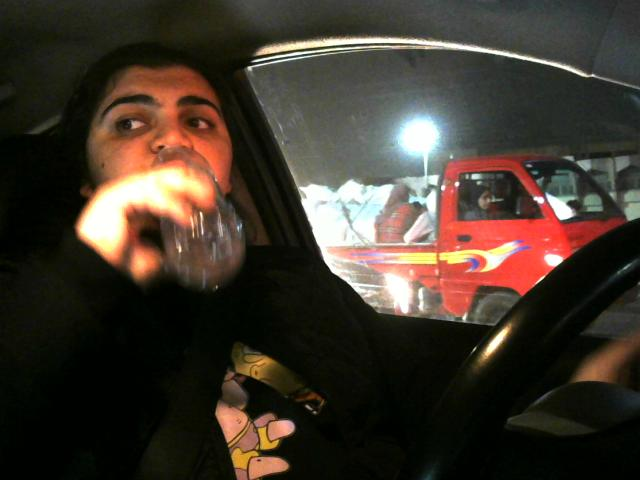Drinking: (73, 66, 247, 290)
